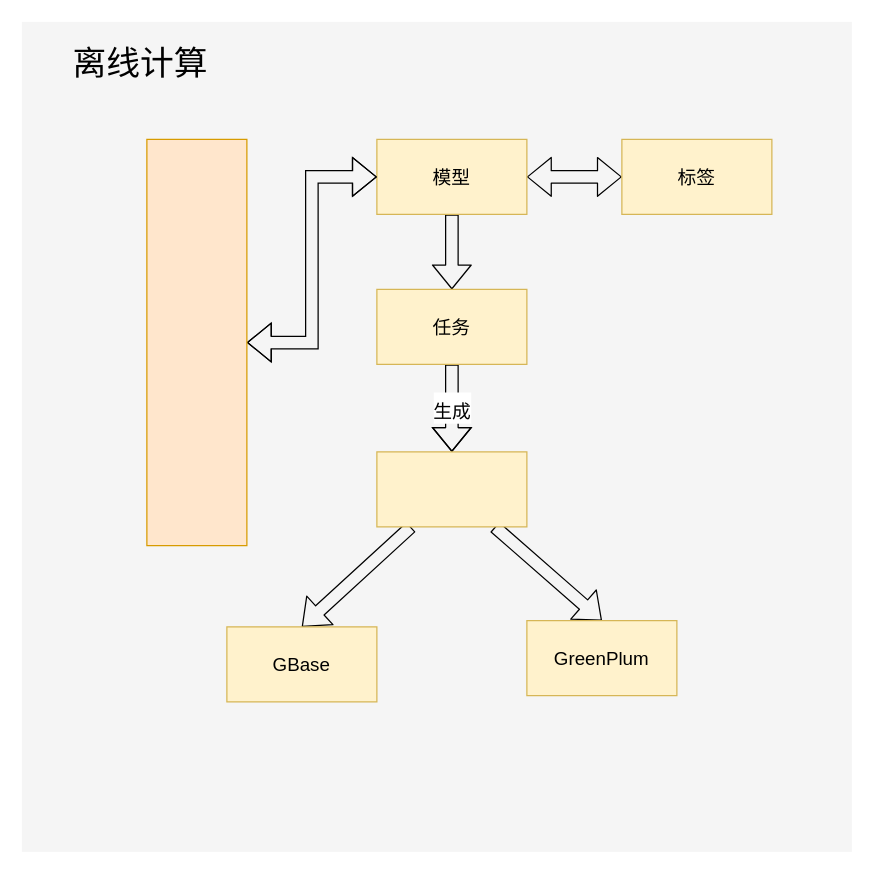
Image size: 873x873. Some labels were removed from this diagram. Each missing label, with the centre of its shape:
"SQL" belongs at point (451, 489).
"调度中心" belongs at point (196, 342).
